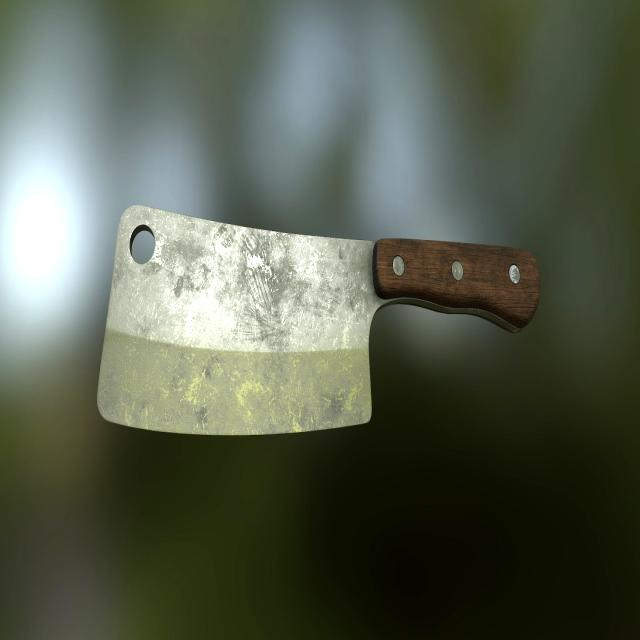cleaver: (100, 206, 534, 417)
